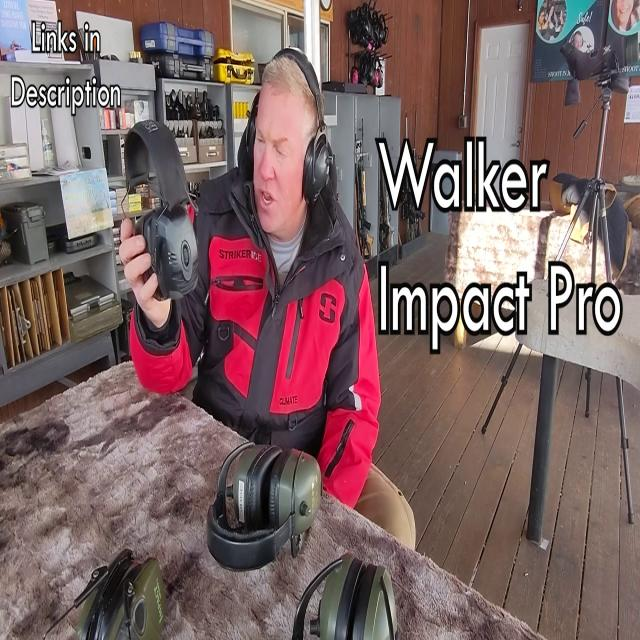earmuff: (152, 196, 202, 306), (300, 133, 336, 210), (244, 90, 261, 162)
